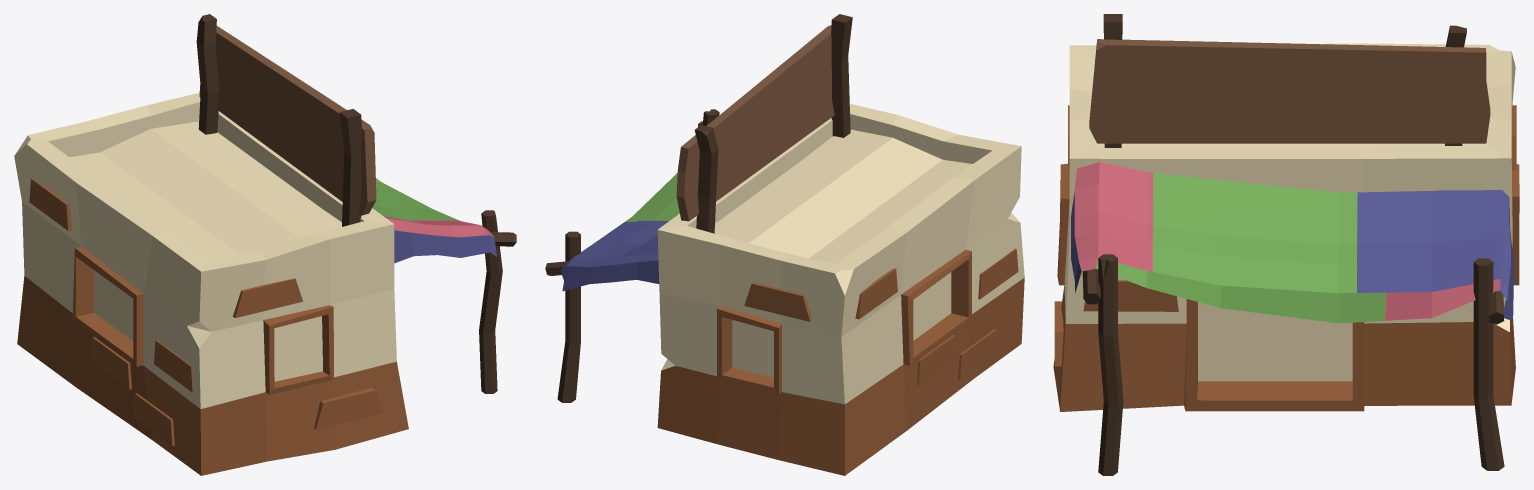
Rendered from House_5.fbx.
3 views of the same model, side by side, from view 1: azimuth 30°, elevation 25°; view 2: azimuth 150°, elevation 25°; view 3: azimuth 270°, elevation 25° (orthographic). The views are drawn at different scales.
Parts seen in each view (by area): view 1: House_5; view 2: House_5; view 3: House_5.
Part boxes in pixels (<box>): House_5: <box>14,14,516,475</box>; House_5: <box>545,14,1024,475</box>; House_5: <box>1053,14,1519,475</box>.
Bounding box in the file's own units: 252 × 227 × 255.
